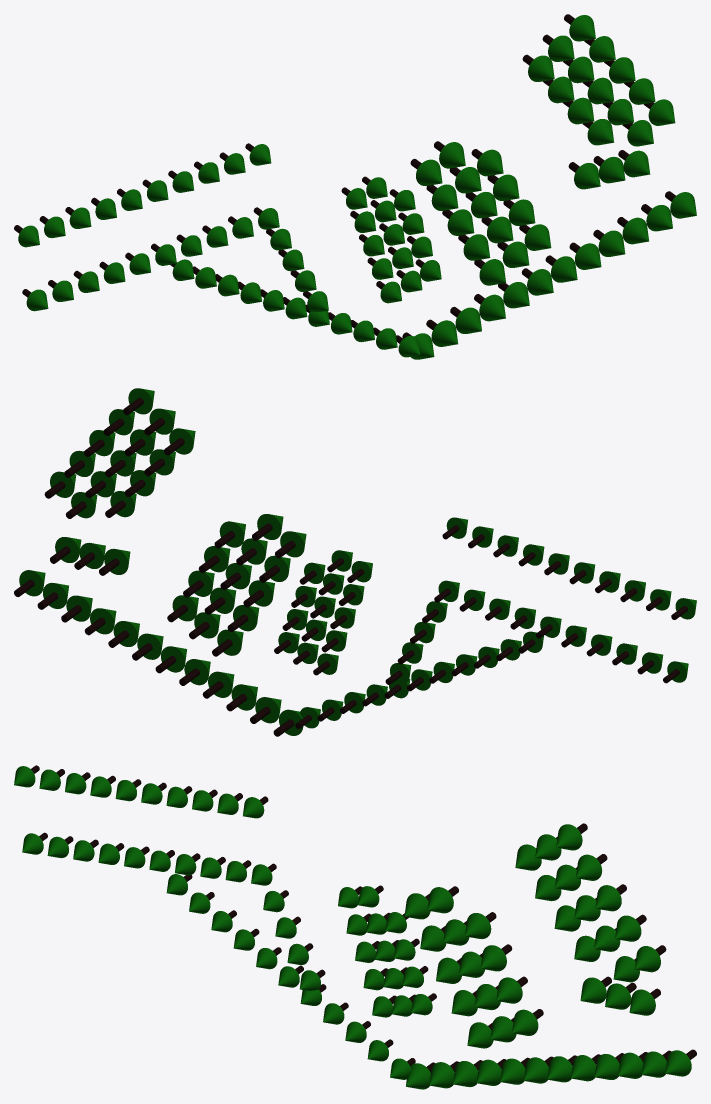
The model's file is forest.obj.
3 renders of one model, top to bottom at view 1: azimuth 30°, elevation 25°; view 2: azimuth 150°, elevation 25°; view 3: azimuth 330°, elevation 25°, orthographic.
Visible parts, largest first — view 1: Цилиндр.010, Цилиндр.013, Цилиндр.014_Цилиндр.016, Цилиндр.011_Цилиндр.014, Цилиндр.004, Цилиндр.005, Цилиндр, Цилиндр.002, Цилиндр.006, Цилиндр.003, Цилиндр.008, Цилиндр.007 (+3 smaller); view 2: Цилиндр.010, Цилиндр.013, Цилиндр.014_Цилиндр.016, Цилиндр.011_Цилиндр.014, Цилиндр.005, Цилиндр.004, Цилиндр.002, Цилиндр, Цилиндр.006, Цилиндр.003, Цилиндр.008, Цилиндр.007 (+3 smaller); view 3: Цилиндр.010, Цилиндр.013, Цилиндр.014_Цилиндр.016, Цилиндр.011_Цилиндр.014, Цилиндр, Цилиндр.004, Цилиндр.005, Цилиндр.002, Цилиндр.006, Цилиндр.003, Цилиндр.012_Цилиндр.015, Цилиндр.007 (+3 smaller).
Part boxes in pixels (box(x1,y1,x2,y2)): Цилиндр.010: box(402, 191, 696, 359); Цилиндр.013: box(170, 259, 420, 357); Цилиндр.014_Цилиндр.016: box(14, 143, 271, 247); Цилиндр.011_Цилиндр.014: box(22, 207, 279, 311); Цилиндр.004: box(410, 158, 505, 285); Цилиндр.005: box(434, 141, 529, 267); Цилиндр: box(564, 14, 675, 125); Цилиндр.002: box(542, 34, 653, 146); Цилиндр.006: box(471, 149, 551, 250); Цилиндр.003: box(522, 54, 614, 145); Цилиндр.008: box(362, 176, 422, 292); Цилиндр.007: box(341, 187, 401, 303); Цилиндр.010: box(14, 570, 303, 736); Цилиндр.013: box(295, 631, 543, 728); Цилиндр.014_Цилиндр.016: box(442, 517, 696, 619); Цилиндр.011_Цилиндр.014: box(434, 580, 688, 683); Цилиндр.005: box(189, 514, 283, 639); Цилиндр.004: box(212, 531, 306, 656); Цилиндр.002: box(65, 408, 175, 518); Цилиндр: box(44, 388, 154, 498); Цилиндр.006: box(167, 521, 245, 622); Цилиндр.003: box(105, 428, 195, 517); Цилиндр.008: box(293, 550, 352, 664); Цилиндр.007: box(313, 561, 372, 675); Цилиндр.010: box(406, 1049, 696, 1089); Цилиндр.013: box(166, 874, 415, 1079); Цилиндр.014_Цилиндр.016: box(14, 765, 268, 818); Цилиндр.011_Цилиндр.014: box(22, 832, 276, 885); Цилиндр: box(556, 823, 666, 972); Цилиндр.004: box(404, 893, 493, 1048); Цилиндр.005: box(427, 886, 516, 1042); Цилиндр.002: box(535, 834, 639, 982); Цилиндр.006: box(465, 912, 543, 1035); Цилиндр.003: box(515, 844, 600, 961); Цилиндр.012_Цилиндр.015: box(251, 864, 325, 990); Цилиндр.007: box(338, 886, 396, 1017).
Bounding box in the file's own units: 152 × 65.88 × 14.89.
